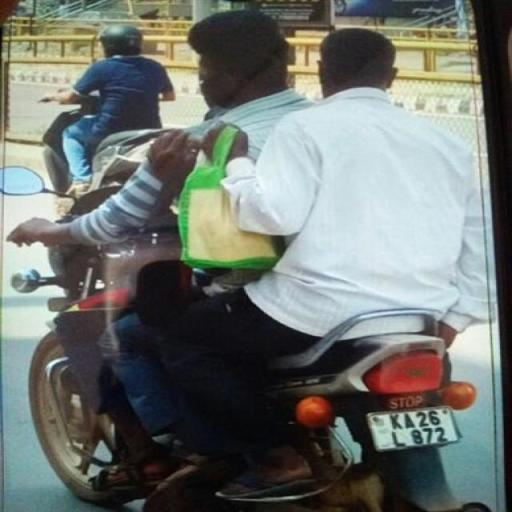tripple riding: (5, 8, 483, 320)
